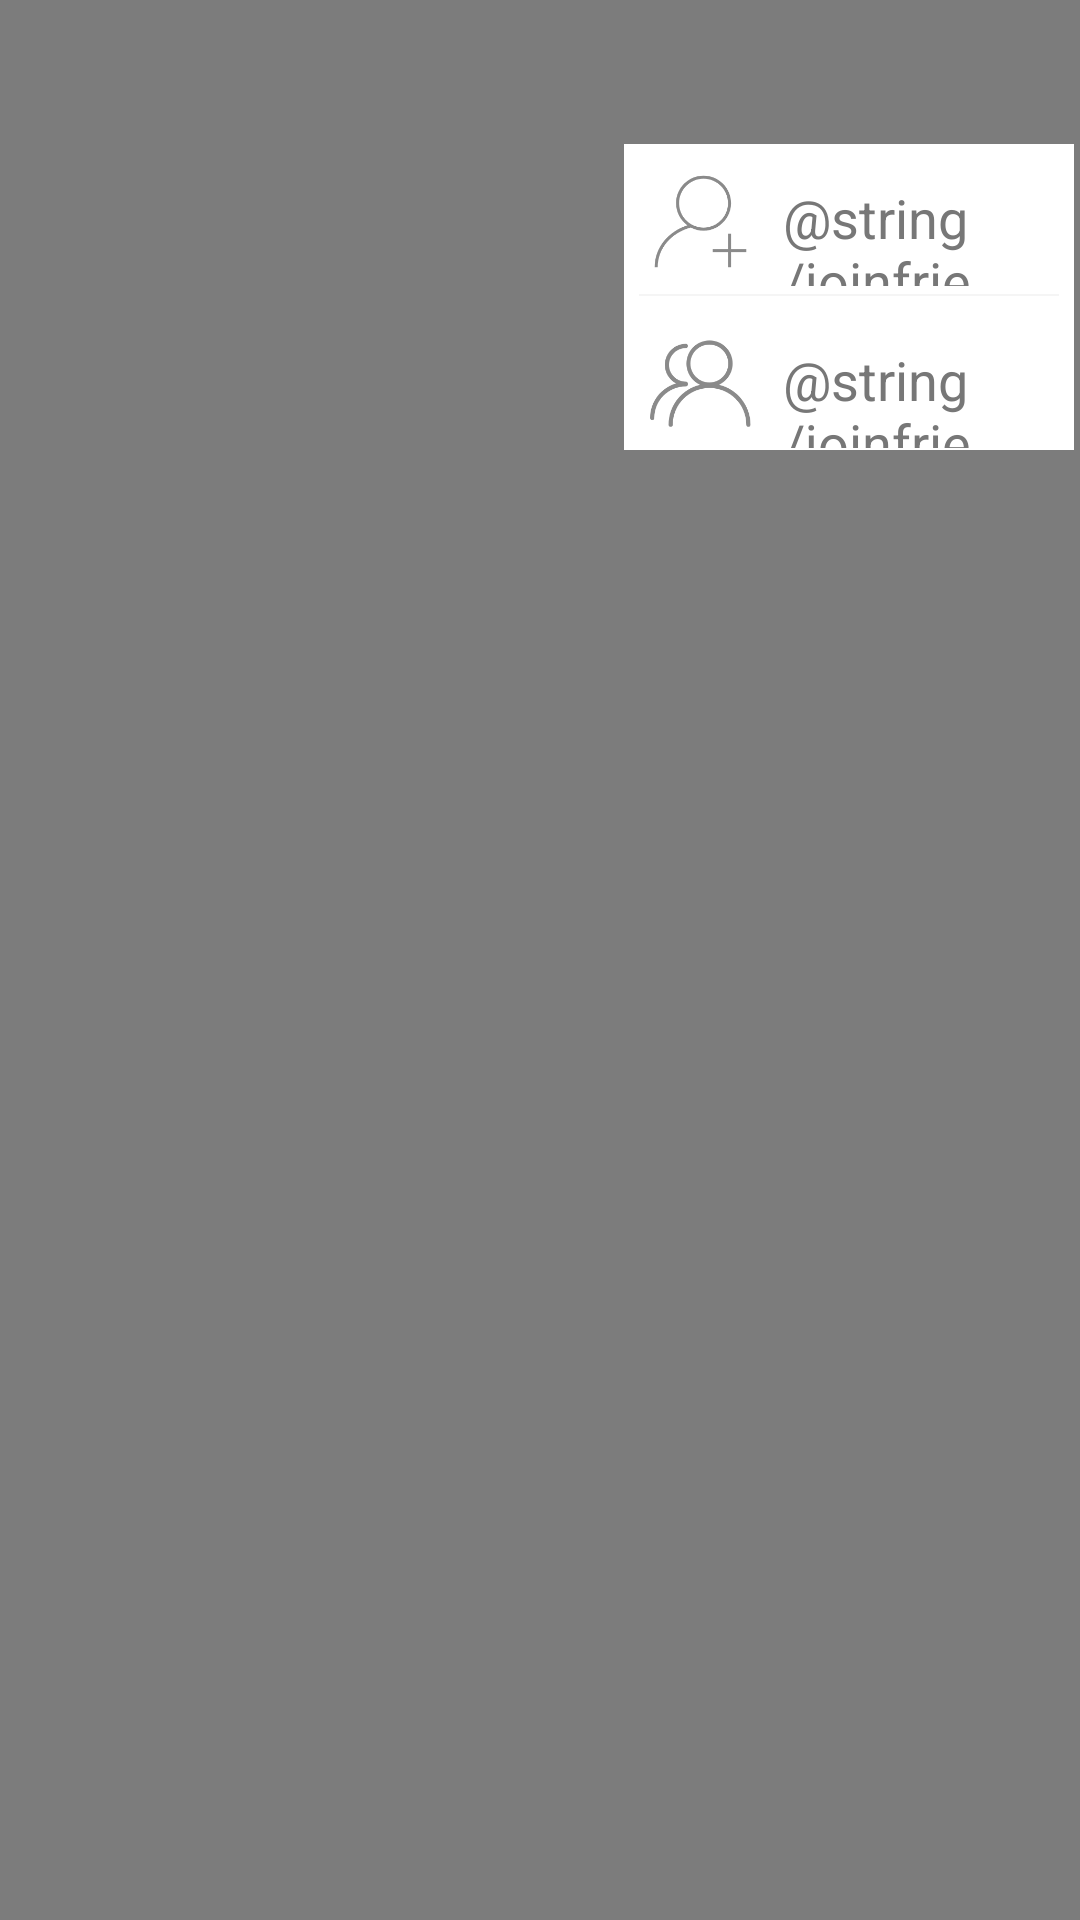

Locate icon controls on the screen. Image size 1080px x 1920px, boxes as (x1, y1, x2, y2).
add friend: (654, 176, 747, 268)
add group: (650, 340, 751, 427)
